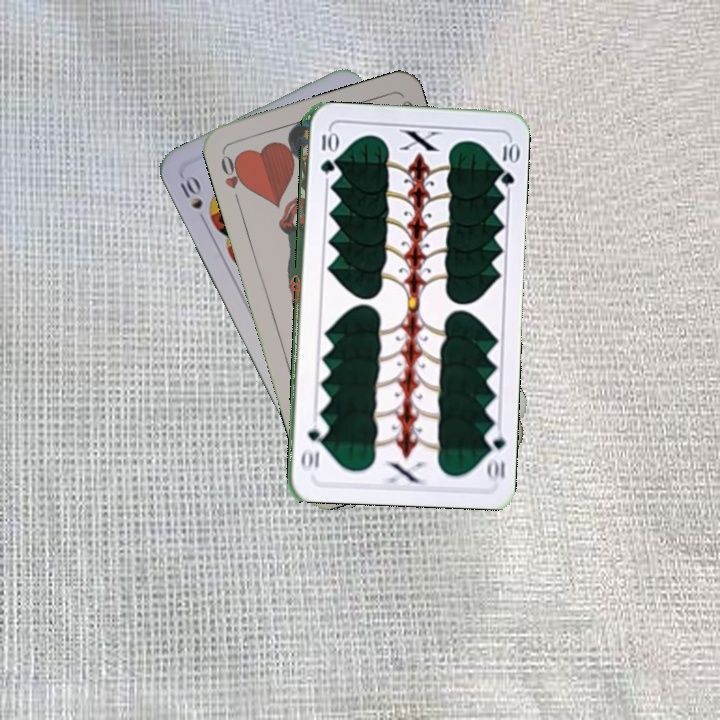G10: (481, 424, 508, 483), (316, 127, 335, 176)
HO: (217, 149, 249, 207)
S10: (176, 170, 210, 227)
